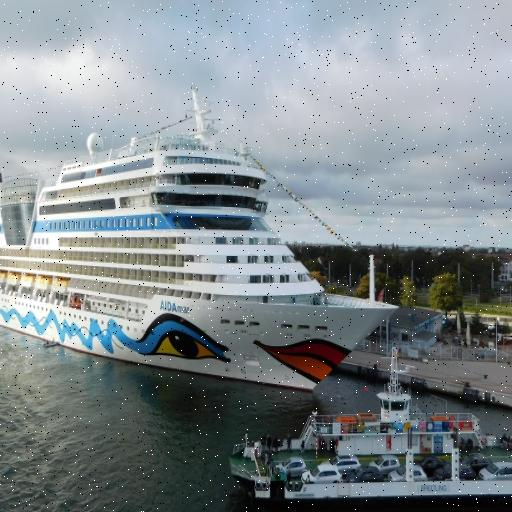cruises: (1, 91, 398, 405)
